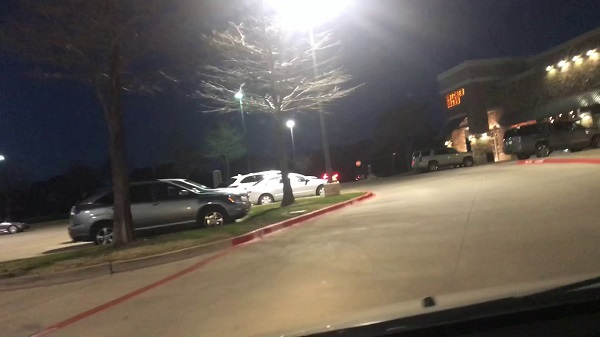car: (64, 181, 253, 244), (244, 177, 327, 201), (411, 148, 475, 169), (318, 166, 341, 182)
truck: (501, 125, 598, 156)
